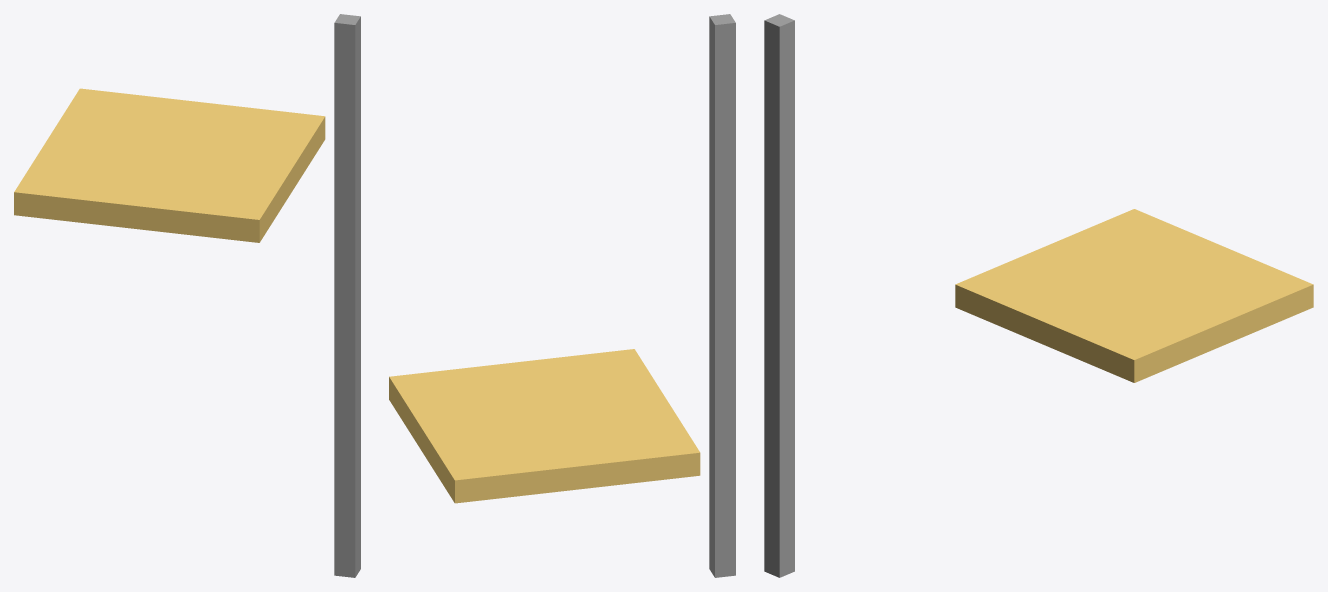
The model's file is Prop_WarningSign.fbx.
The picture shows the model from 3 angles, left to right: view 1: azimuth 30°, elevation 25°; view 2: azimuth 150°, elevation 25°; view 3: azimuth 270°, elevation 25°; orthographic projection.
Parts seen in each view (by area): view 1: Prop_WarnSign_board, Prop_WarnSign_post; view 2: Prop_WarnSign_board, Prop_WarnSign_post; view 3: Prop_WarnSign_board, Prop_WarnSign_post.
Boxes of the visible parts, box(x1,y1,x2,y2) form: Prop_WarnSign_board: box(14, 88, 325, 242); Prop_WarnSign_post: box(334, 14, 360, 577); Prop_WarnSign_board: box(389, 349, 700, 503); Prop_WarnSign_post: box(709, 14, 735, 577); Prop_WarnSign_board: box(955, 209, 1313, 382); Prop_WarnSign_post: box(764, 14, 794, 577).
Size of the model in its own units: 0.7071 by 1.2 by 1.08.
